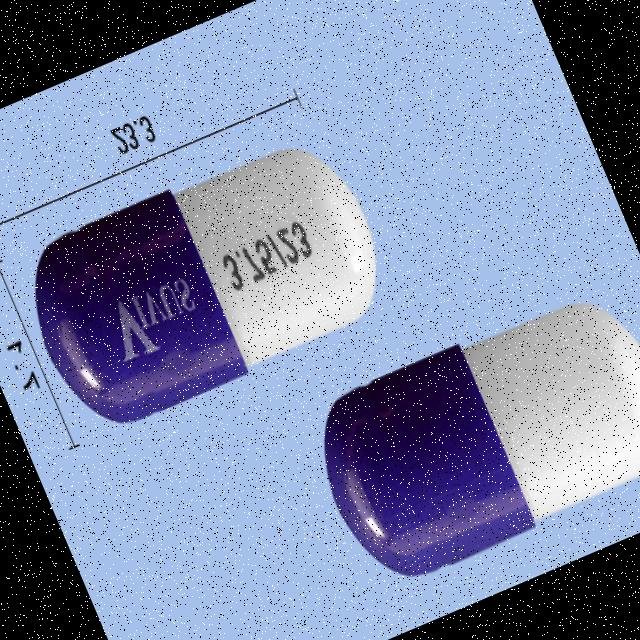Qsymia Cap-3-75mg: (7, 120, 406, 446), (298, 279, 640, 600)
